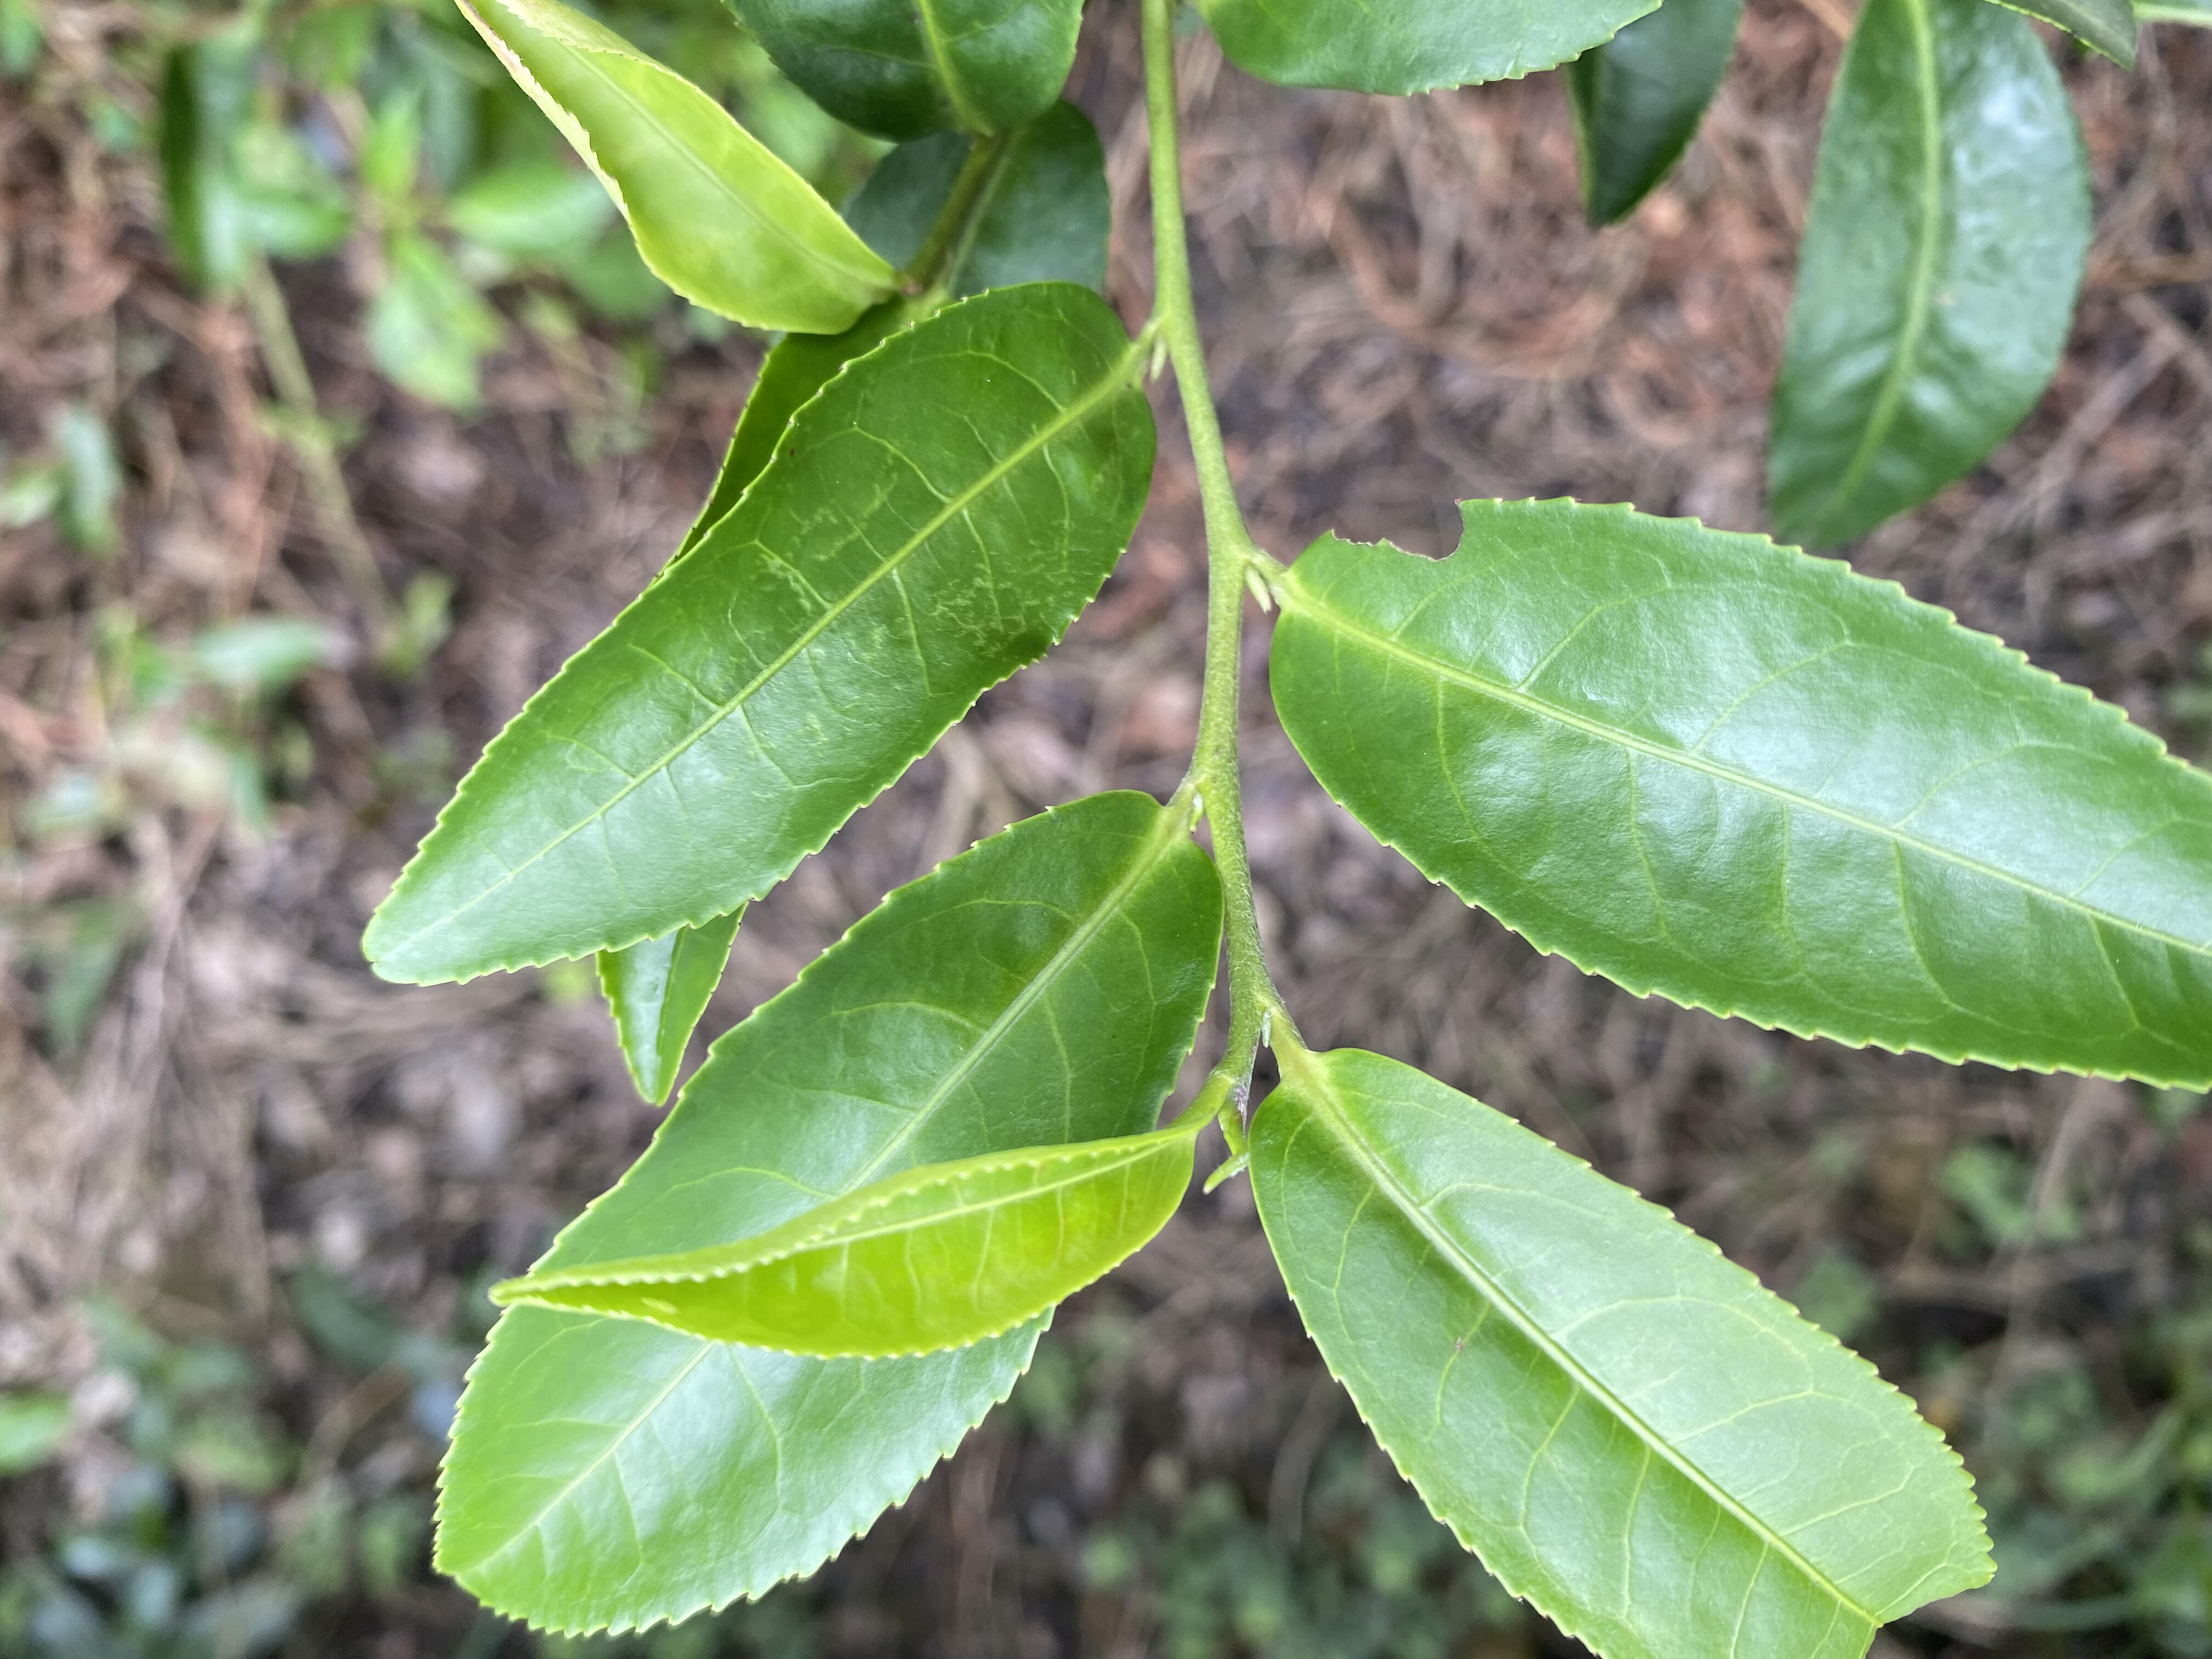chihuo_low: (1268, 491, 2207, 1091), (1244, 1044, 2008, 1656)
healthy: (427, 788, 1228, 1642), (357, 284, 1158, 993), (489, 1122, 1198, 1366), (453, 3, 899, 336)
